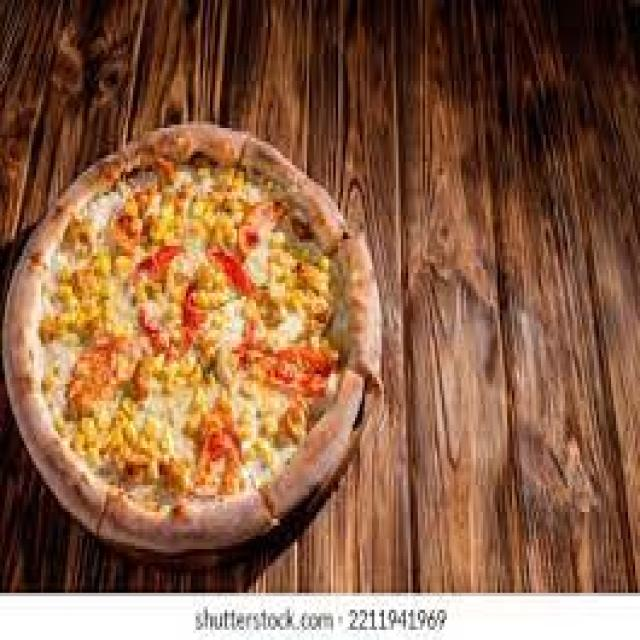햄버거: (2, 125, 379, 576)
